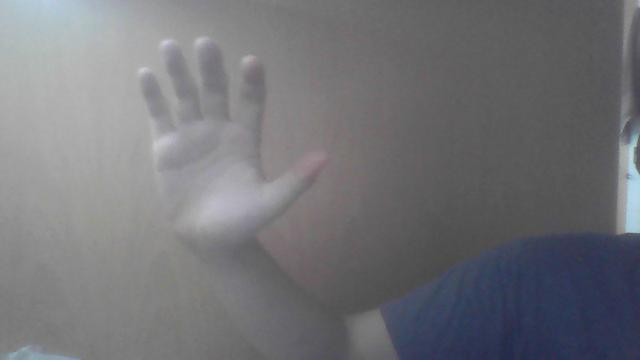Stop: (138, 36, 328, 256)
